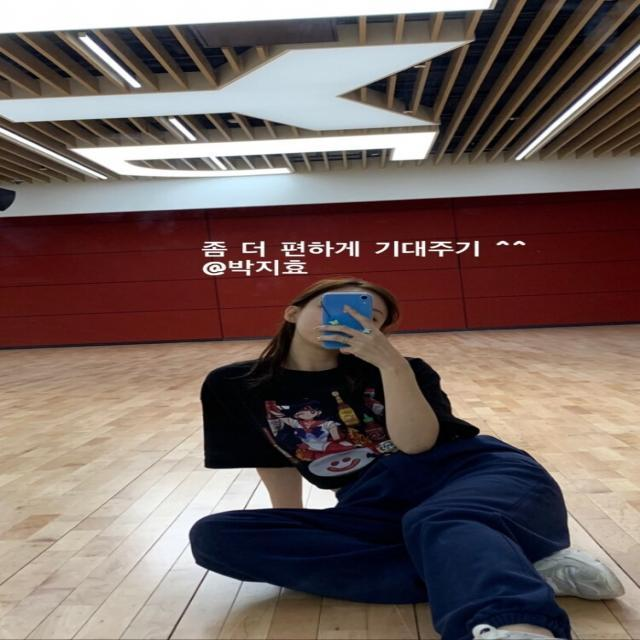phone: (322, 292, 372, 350)
